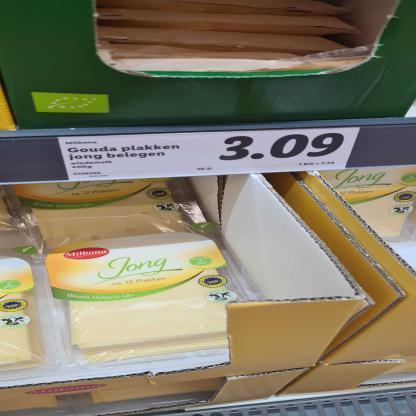prtg: (59, 128, 361, 181)
